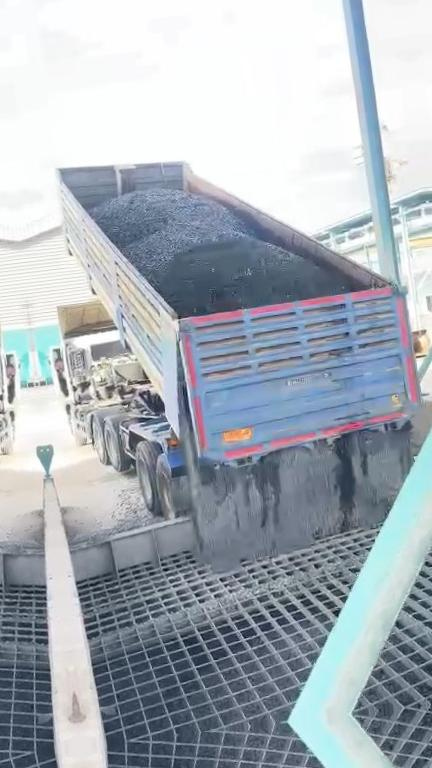gravel: (92, 189, 352, 317), (181, 429, 413, 572)
